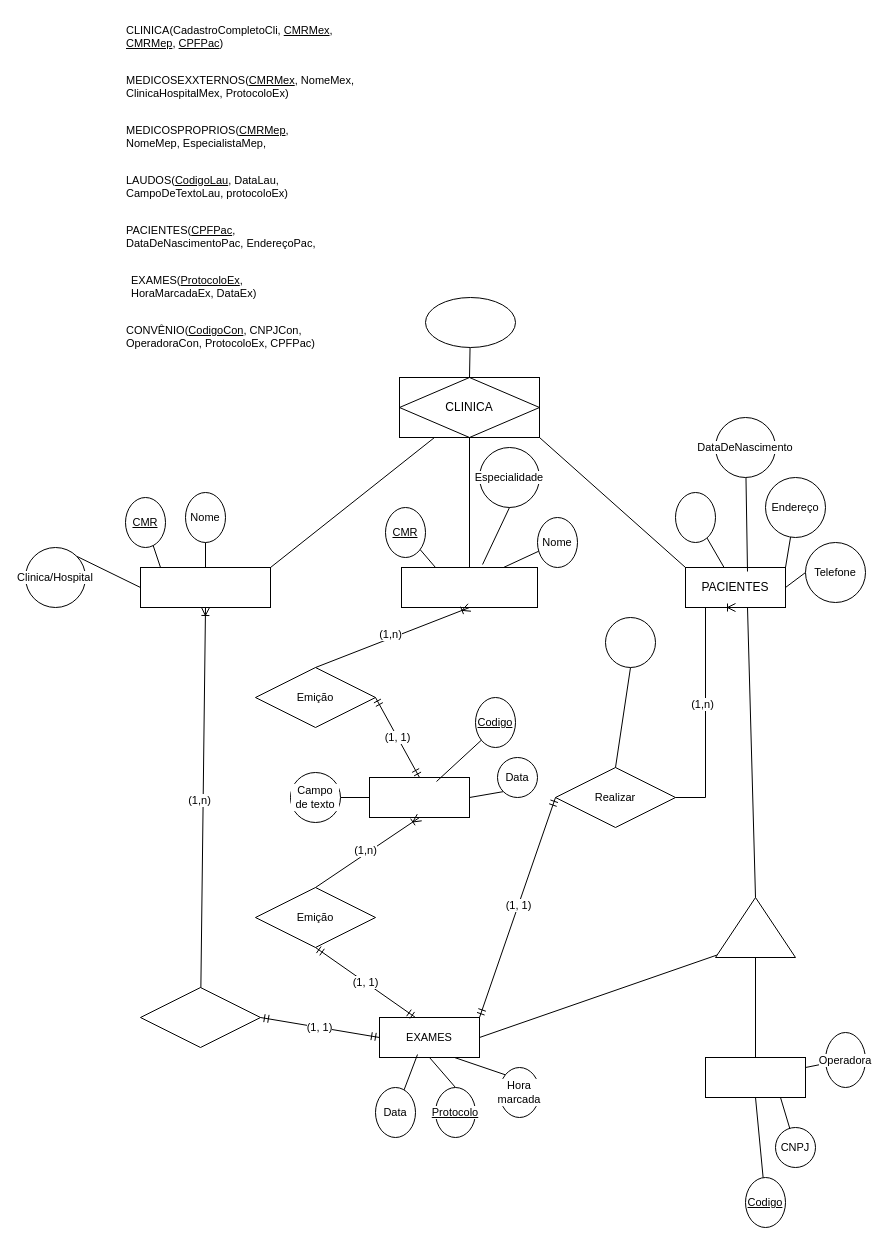
Image size: 889x1245. Some labels were removed from this diagram. Each missing label, with the centre of its shape:
"Cadastro completo" belongs at point (470, 322).
"CONVÊNIO" belongs at point (755, 1077).
"CPF" belongs at point (695, 517).
"LAUDOS" belongs at point (419, 797).
"MEDICOSEXTERNOS" belongs at point (205, 587).
"MEDICOSPROPRIOS" belongs at point (469, 587).
"Registro" belongs at point (630, 642).
"Solicitar" belongs at point (200, 1017).
